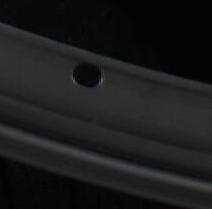holes: (71, 61, 104, 88)
